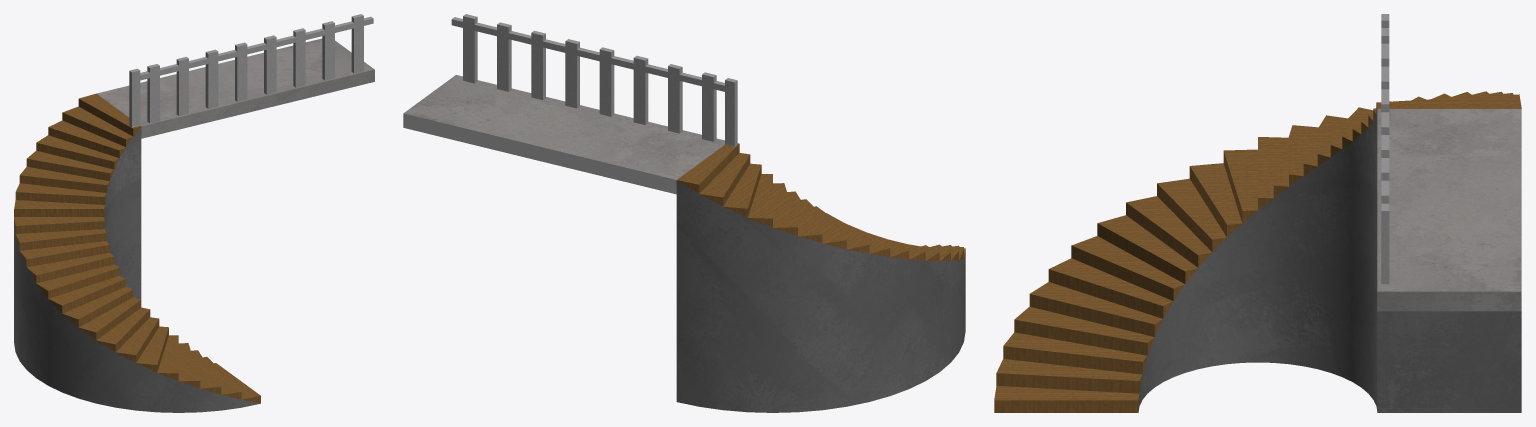
File: reception_staircase.fbx
3 renders of one model, left to right at view 1: azimuth 30°, elevation 25°; view 2: azimuth 150°, elevation 25°; view 3: azimuth 270°, elevation 25°, orthographic. The views are drawn at different scales.
Visible parts, largest first — view 1: Curved Stairs.001; view 2: Curved Stairs.001; view 3: Curved Stairs.001.
Part boxes in pixels (x1,y1,x2,y2): Curved Stairs.001: [14, 14, 374, 412]; Curved Stairs.001: [403, 14, 965, 412]; Curved Stairs.001: [994, 14, 1521, 412].
Bounding box in the file's own units: 757 × 471 × 574.
Materials: 1 (1 with a texture image).
